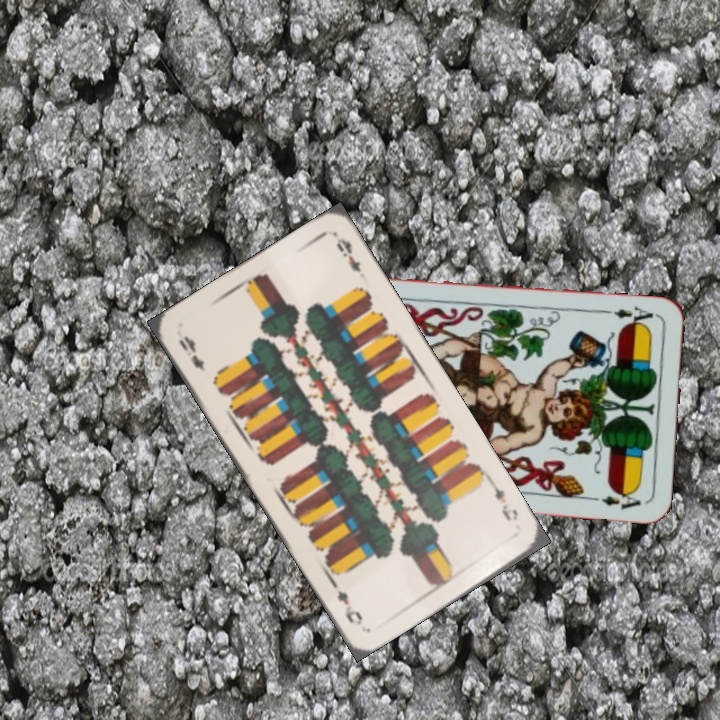E9: (486, 477, 521, 524), (174, 332, 208, 374)
EA: (610, 302, 661, 330)
